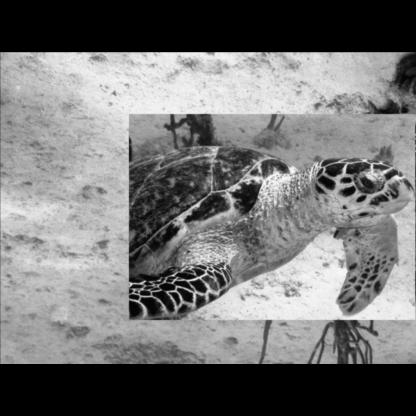turtle: (128, 113, 414, 319)
